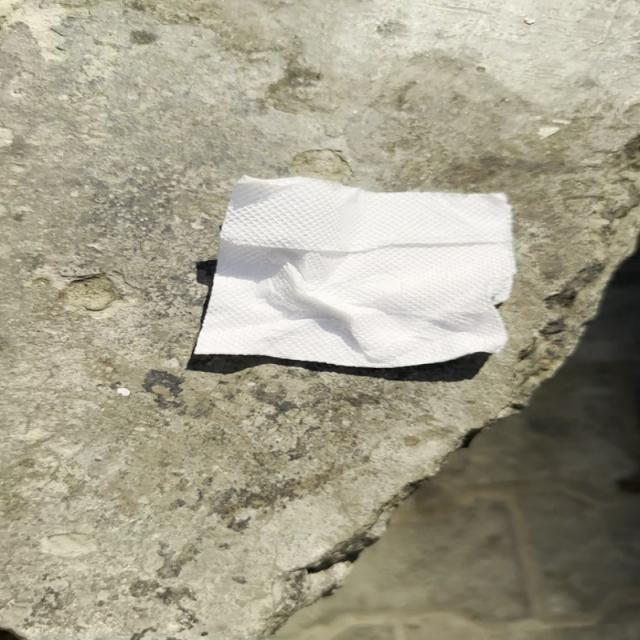tissue: (182, 170, 528, 367)
